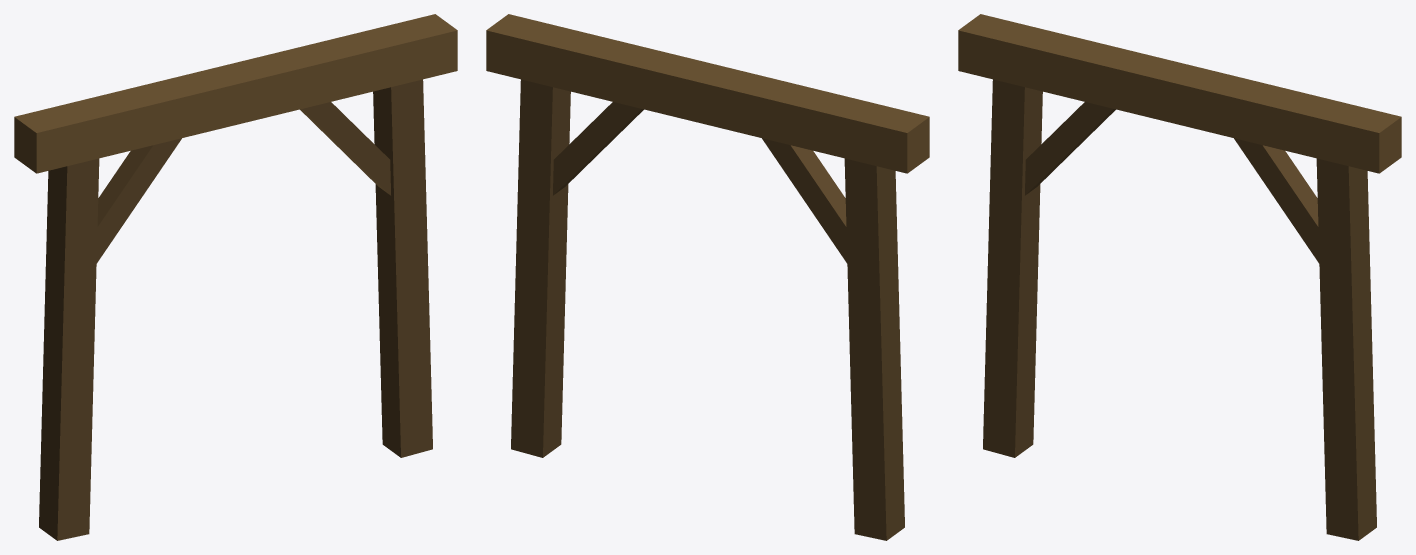
File: pit_prop.glb
3 renders of one model, left to right at view 1: azimuth 30°, elevation 25°; view 2: azimuth 150°, elevation 25°; view 3: azimuth 330°, elevation 25°, orthographic.
Visible parts, largest first — view 1: pit_prop; view 2: pit_prop; view 3: pit_prop.
Boxes of the visible parts, bbox=[...] form: pit_prop: bbox=[14, 14, 457, 540]; pit_prop: bbox=[486, 14, 929, 540]; pit_prop: bbox=[958, 14, 1401, 540].
Size of the model in its own units: 2.5 by 2.36 by 0.23.
